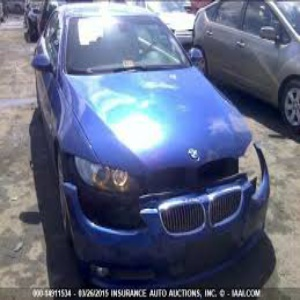bonnet: (68, 88, 258, 160)
bumper: (61, 164, 283, 272)
